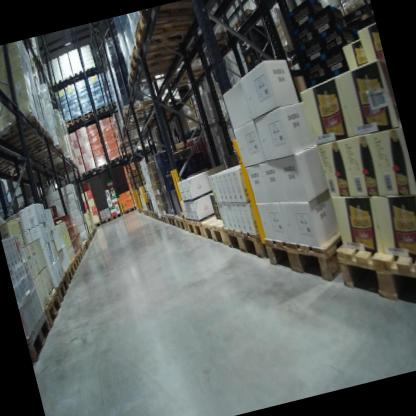pallet: (328, 215, 416, 339), (261, 207, 371, 289), (125, 0, 209, 60), (198, 204, 262, 252), (221, 212, 274, 267), (123, 33, 187, 76), (135, 0, 212, 34), (21, 307, 61, 369), (123, 55, 184, 91), (0, 111, 46, 153), (165, 57, 219, 91), (115, 93, 159, 123), (37, 289, 67, 331), (12, 122, 51, 154), (185, 209, 222, 241), (338, 0, 375, 32), (195, 25, 233, 53), (20, 133, 57, 161), (119, 112, 166, 133), (30, 143, 69, 165), (52, 275, 74, 306), (117, 135, 146, 153), (238, 5, 261, 23), (165, 209, 182, 230), (175, 213, 191, 235), (63, 261, 77, 285), (69, 254, 83, 276), (227, 17, 244, 35), (32, 53, 47, 71), (21, 38, 36, 53), (109, 154, 125, 167), (100, 213, 114, 227), (78, 244, 89, 261), (159, 213, 170, 228), (94, 106, 109, 117), (75, 249, 85, 264), (70, 117, 85, 127), (110, 211, 124, 221), (96, 162, 110, 172), (93, 217, 104, 229), (123, 206, 137, 215), (81, 237, 90, 251), (86, 165, 97, 176), (83, 112, 95, 121), (76, 171, 88, 180), (154, 210, 161, 223), (150, 209, 157, 222), (64, 121, 74, 129), (147, 208, 153, 219), (86, 238, 92, 248)
